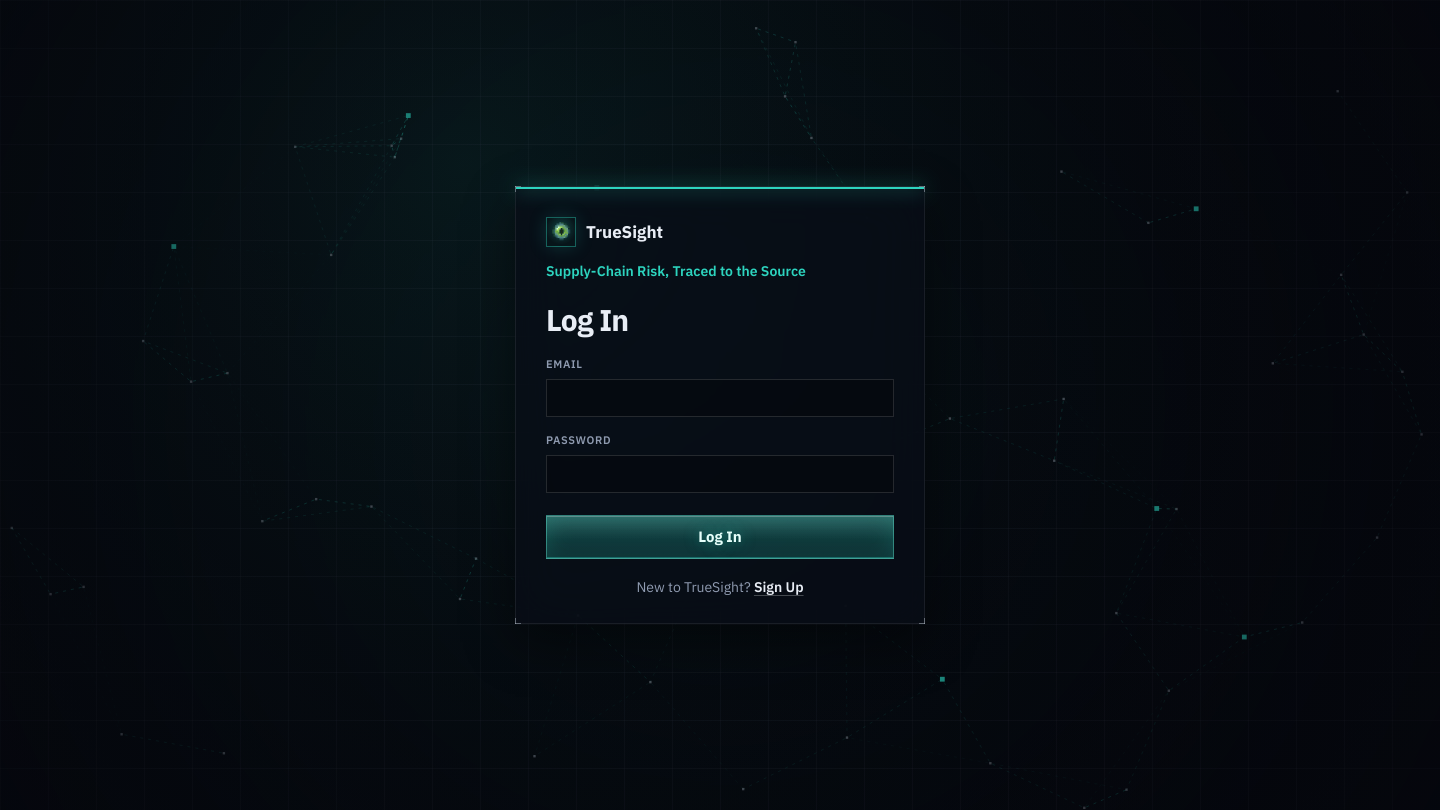
Test case: Log In › shows "Wrong email or password." when the login is refused
The width and height of the screenshot is (1440, 810).
Type "pm@example.com" into the field labelled "Email" at [720, 398], box [546,379,894,417]
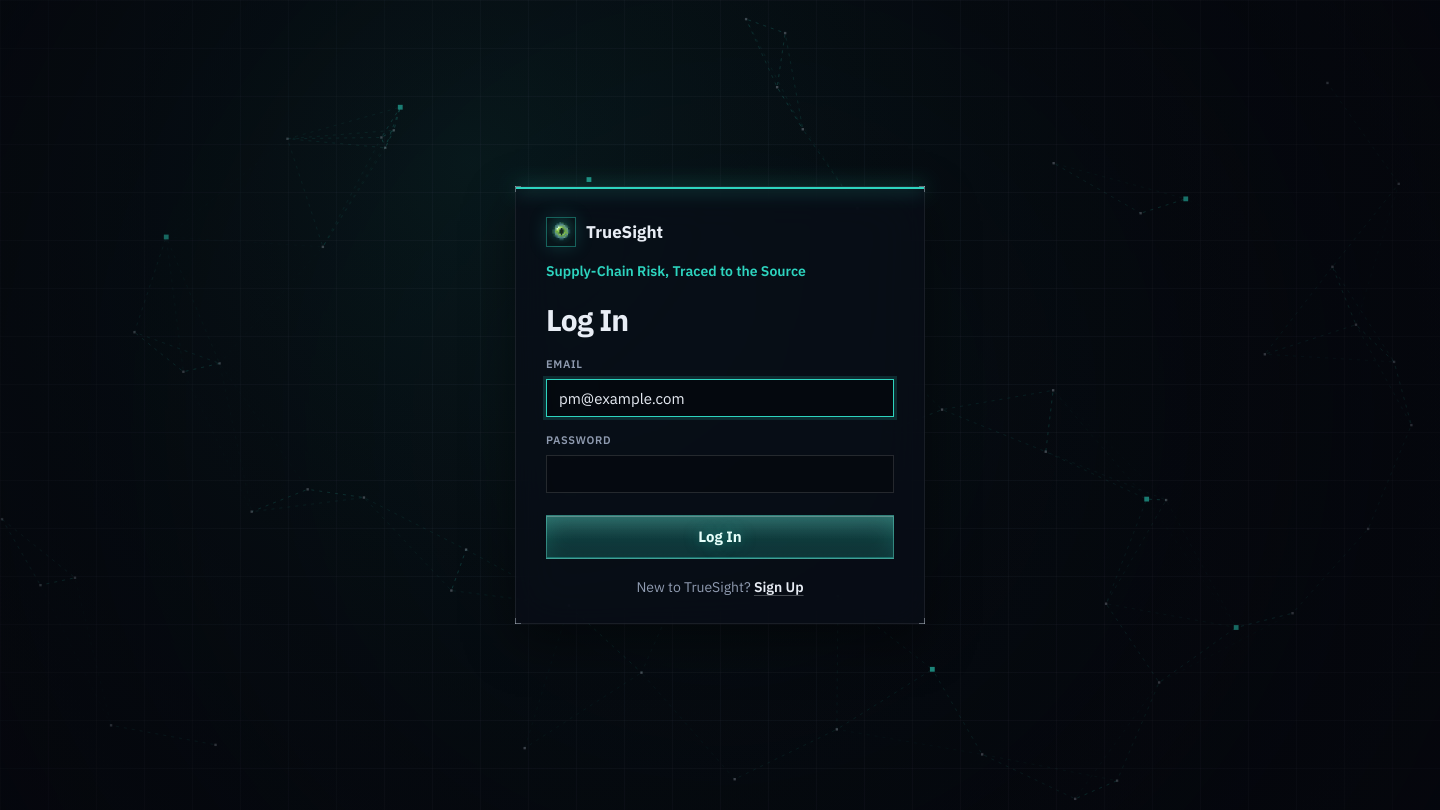
Type "wrong-password" into the password field labelled "Password" at [720, 474], box [546,455,894,493]
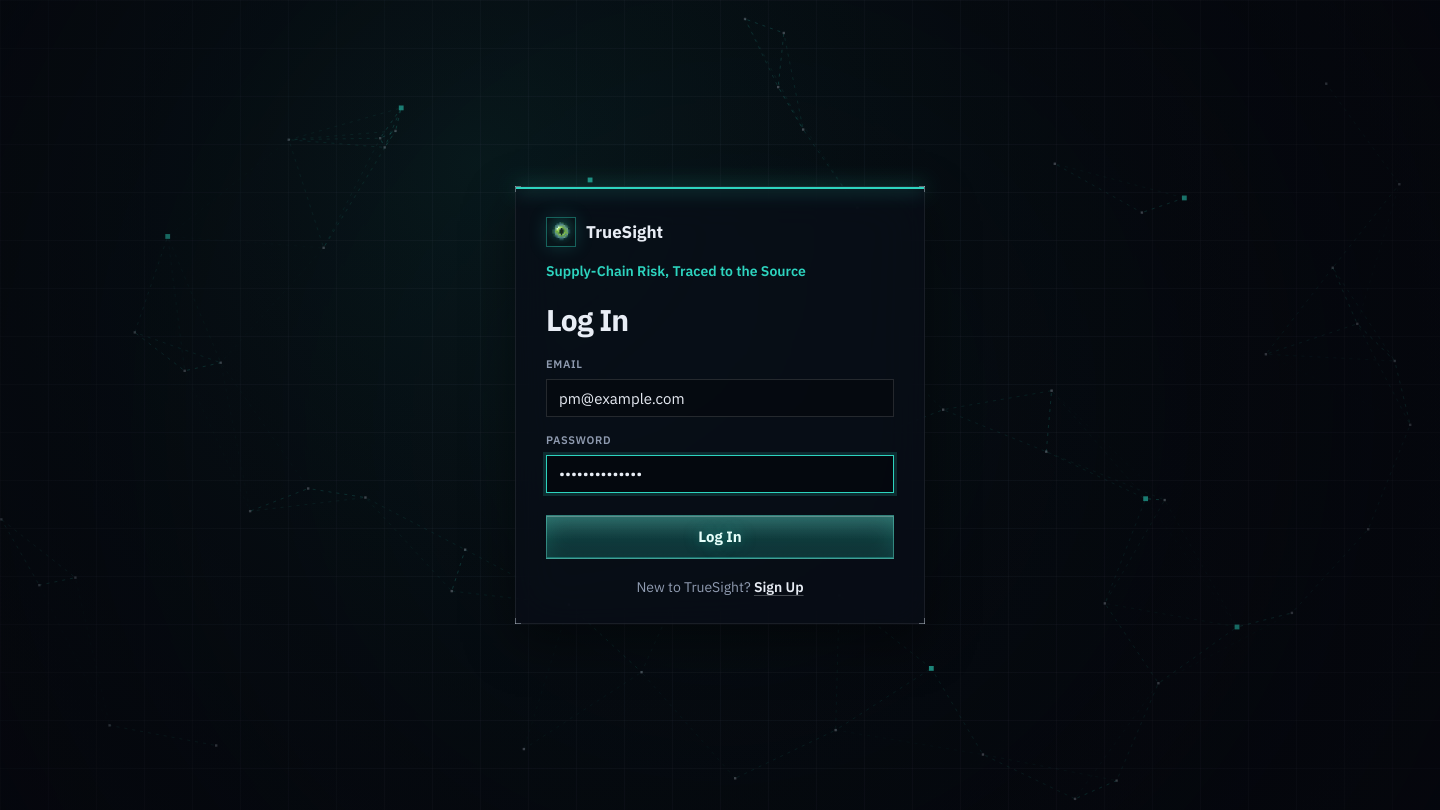
Click the button "Log In" at [720, 537], box [546,515,894,559]
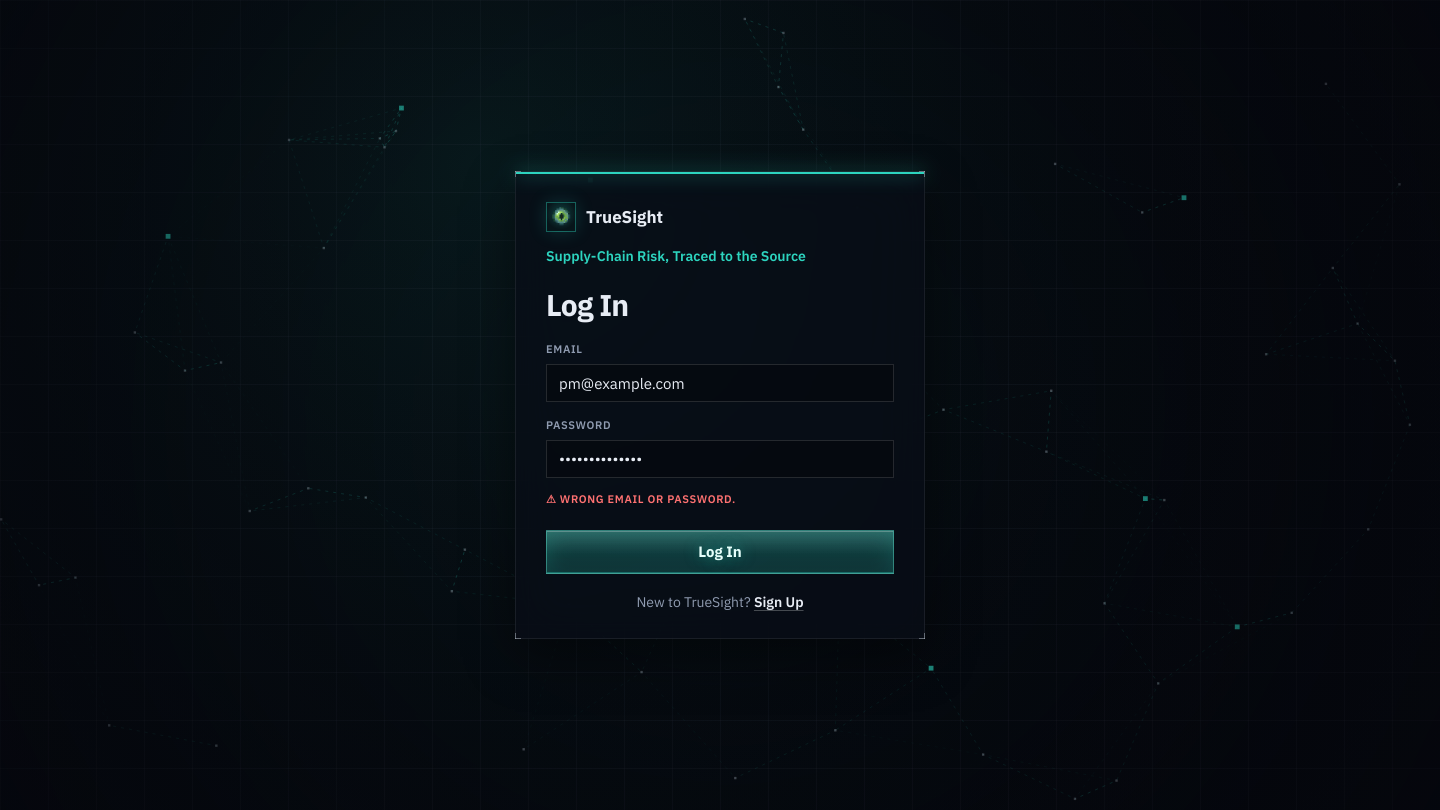
Result: the text "Wrong email or password." is shown at [560,492,736,506]
